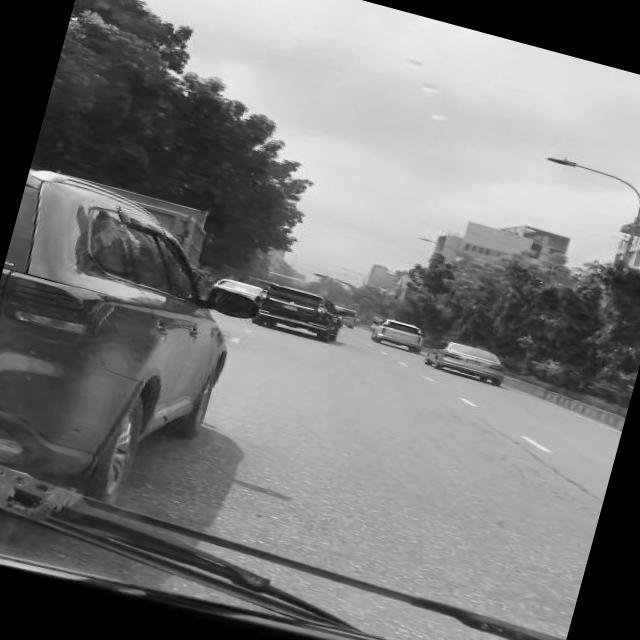car: (246, 276, 347, 346), (419, 334, 511, 386), (368, 313, 427, 354)
truck: (334, 304, 362, 328)
